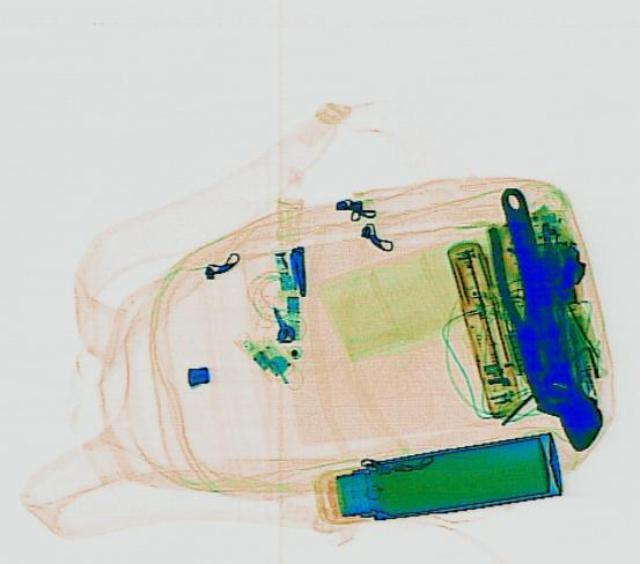Wrench: (481, 182, 607, 454)
